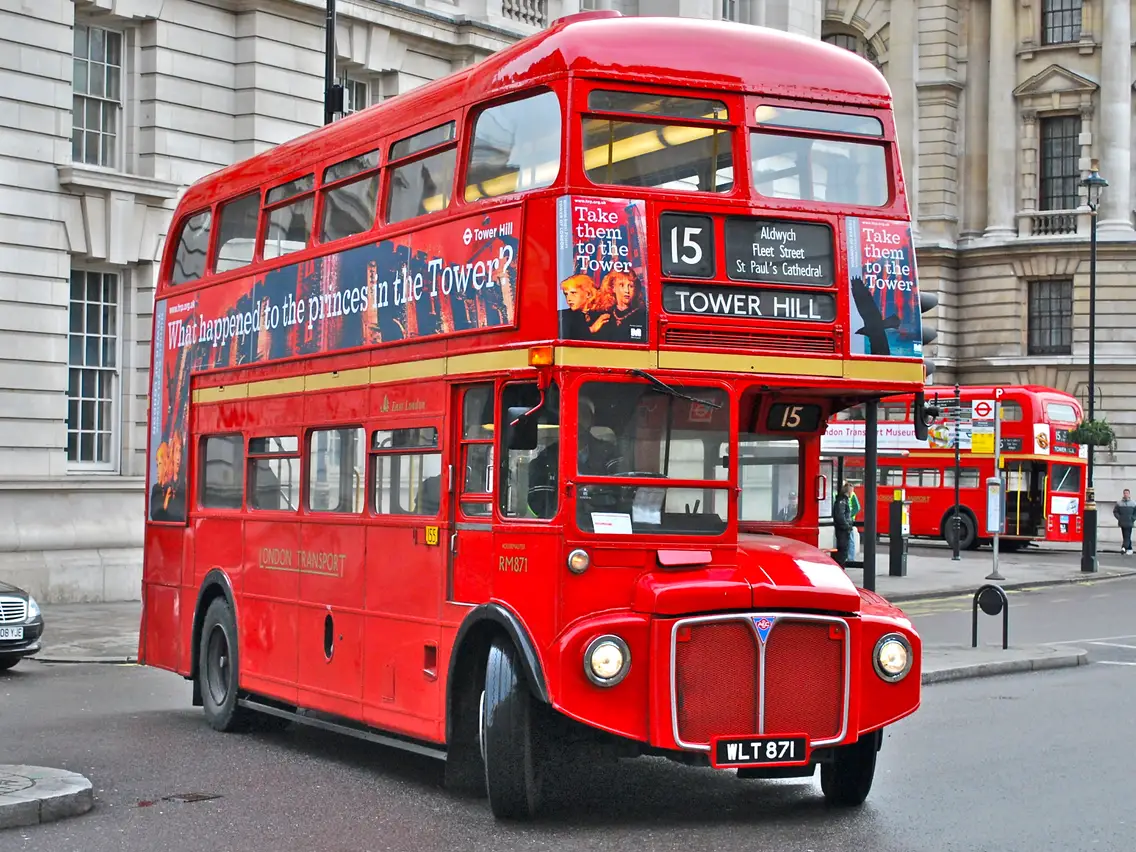red_busess: (144, 6, 920, 819)
